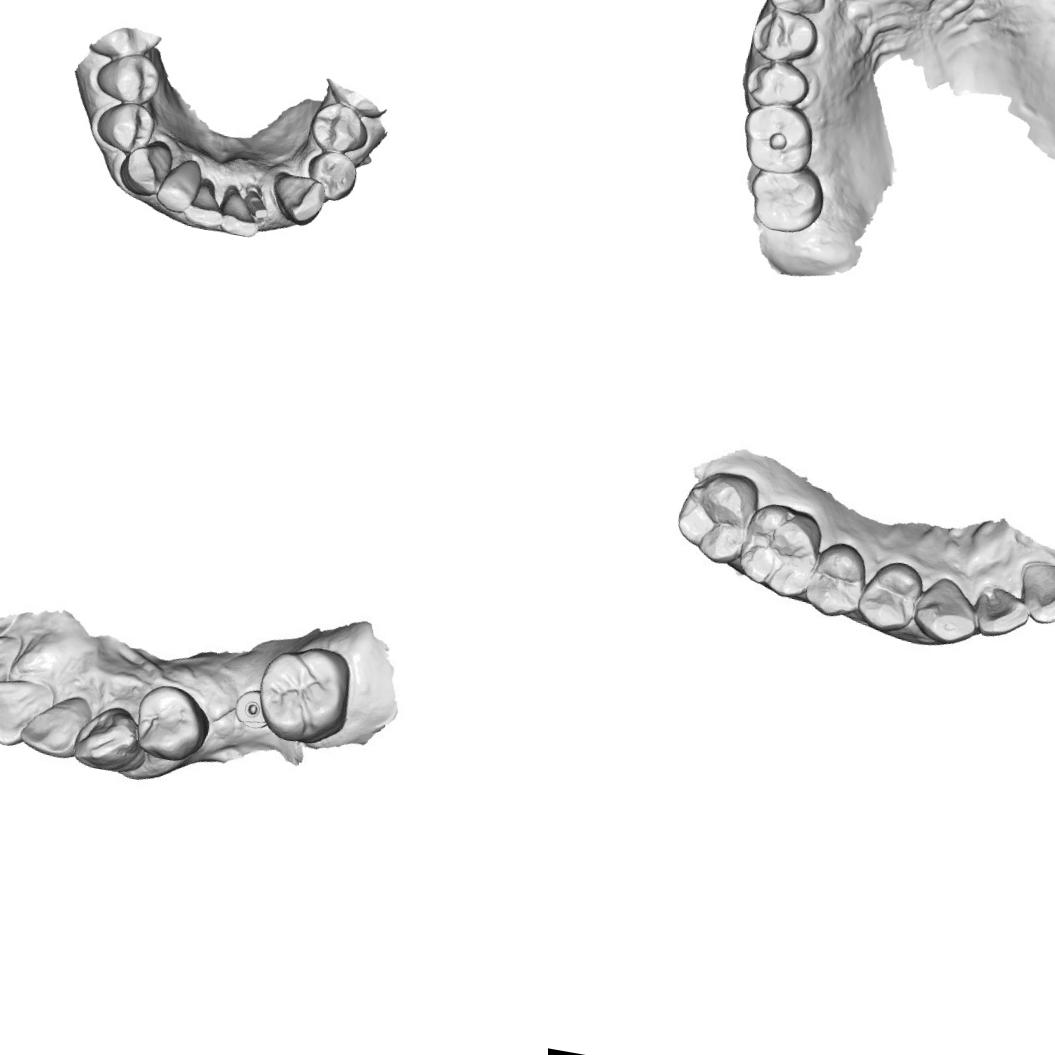abutment: (240, 182, 272, 220)
canine: (906, 572, 986, 651), (71, 700, 148, 780), (115, 138, 176, 200), (267, 170, 327, 229), (762, 0, 832, 18)
implant: (228, 685, 276, 732)
incisor: (17, 688, 92, 760), (0, 673, 51, 749), (970, 582, 1032, 639), (153, 152, 205, 214), (1015, 560, 1055, 627), (180, 178, 227, 230), (0, 621, 26, 694), (217, 208, 261, 239)
molar: (252, 636, 360, 750), (730, 502, 822, 598), (668, 466, 756, 564), (742, 157, 830, 238), (735, 98, 820, 180)
premolar: (126, 674, 216, 767), (800, 535, 869, 622), (852, 553, 925, 633), (748, 3, 822, 68), (91, 46, 163, 107), (90, 96, 158, 155), (305, 98, 373, 157), (744, 54, 814, 111), (300, 146, 361, 204)
